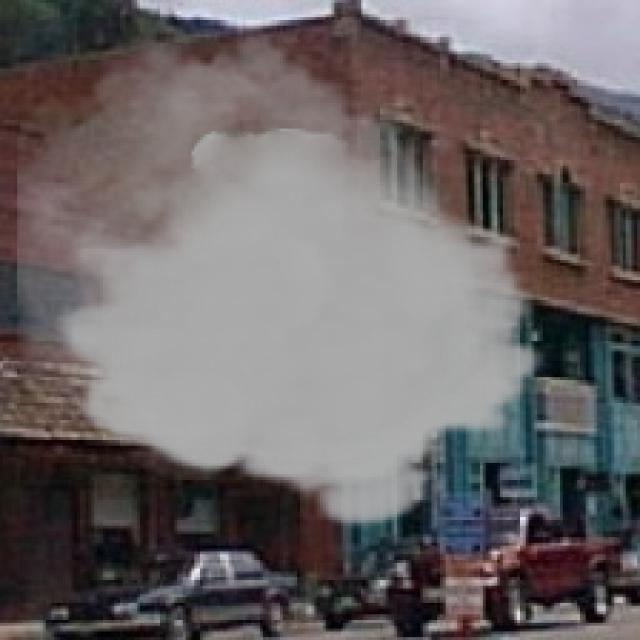smoke: (17, 17, 546, 532)
